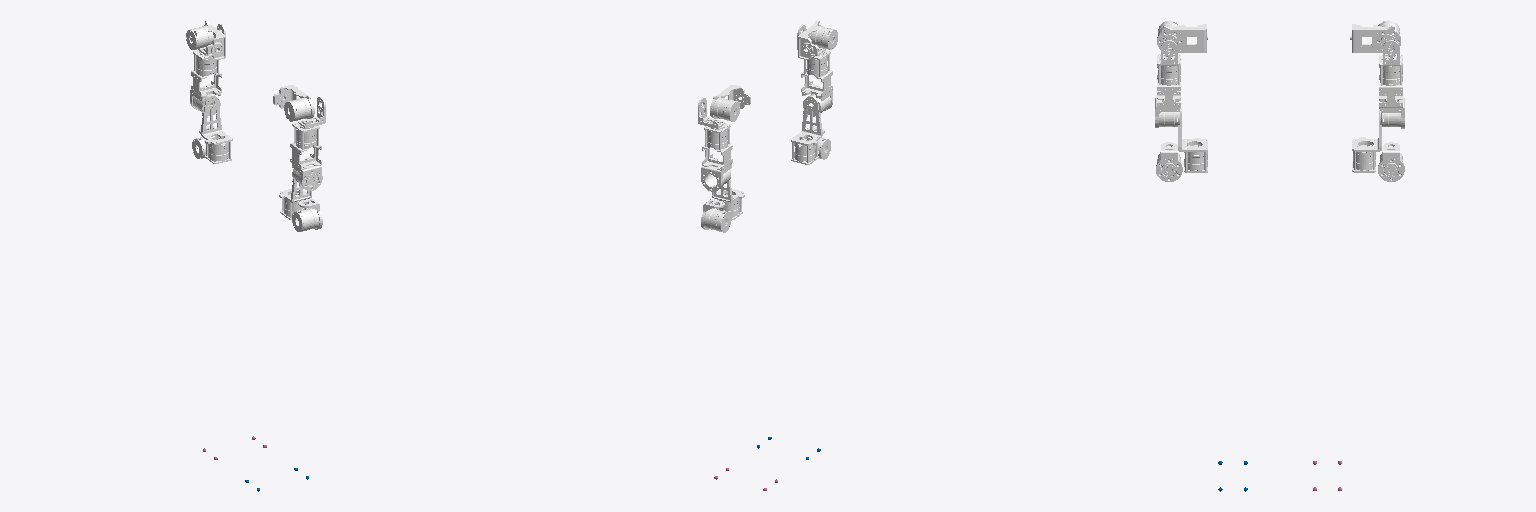
--- Facts derived from the render (not from the file) ---
3 views of the same robot in one strip: view 1: azimuth 30°, elevation 25°; view 2: azimuth 150°, elevation 25°; view 3: azimuth 270°, elevation 25° (orthographic).
Robot: biped_v3 — 27 links, 26 joints (2 revolute, 24 continuous); root link torso; default pose: every joint at zero.
Visible links, largest first — view 1: r_arm_yaw, l_arm_yaw, l_forearm_pitch, r_arm_pitch, l_arm_pitch, r_forearm_yaw, r_forearm_pitch; view 2: l_arm_yaw, r_arm_yaw, r_forearm_pitch, l_arm_pitch, r_arm_pitch, l_forearm_yaw, l_forearm_pitch; view 3: r_arm_yaw, l_arm_yaw, r_arm_pitch, l_arm_pitch, r_forearm_pitch, l_forearm_pitch, r_forearm_yaw, l_forearm_yaw.
Link boxes in pixels (x1,y1,x2,y2): r_arm_yaw: (290,122,322,190); l_arm_yaw: (190,50,221,115); l_forearm_pitch: (201,95,232,163); r_arm_pitch: (273,85,314,121); l_arm_pitch: (186,21,225,59); r_forearm_yaw: (292,198,322,231); r_forearm_pitch: (279,179,311,219); l_arm_yaw: (701,123,732,191); r_arm_yaw: (801,50,832,116); r_forearm_pitch: (791,96,822,164); l_arm_pitch: (710,85,750,121); r_arm_pitch: (798,21,837,59); l_forearm_yaw: (701,199,731,232); l_forearm_pitch: (712,161,744,219); r_arm_yaw: (1155,54,1180,127); l_arm_yaw: (1379,55,1404,128); r_arm_pitch: (1157,20,1207,52); l_arm_pitch: (1350,20,1400,52); r_forearm_pitch: (1178,103,1207,172); l_forearm_pitch: (1352,109,1381,172); r_forearm_yaw: (1156,142,1182,181); l_forearm_yaw: (1378,142,1404,181).
Size in the robot's own frame: 0.16 by 0.5952 by 1.19 metres.
10 mesh visuals loaded from 27 distinct referenced files (10 OBJ); not drawn: 17 (reference not matched to a file when rendering).

URDF robot description (biped_v3):
<?xml version='1.0' encoding='UTF-8'?>
<robot name="biped_v3">
  <link name="torso">
    <inertial>
      <origin xyz="-0.04010494863 -1.4589E-07 0.16945" rpy="0 0 0" />
      <mass value="27.2800595" />
      <inertia ixx="0.07055" ixy="4.2719E-07" ixz="0.0010388" iyy="0.059777" iyz="5.4507E-06" izz="0.063237" />
    </inertial>
    <visual>
      <origin xyz="0 0 0" rpy="0 0 0" />
      <geometry>
        <mesh filename="../meshes/base_link.obj" />
      </geometry>
      <material name="">
        <color rgba="0.43137 0.45098 0.43137 1" />
      </material>
    </visual>
  </link>

  <link name="l_leg_roll">
    <inertial>
      <origin xyz="0.12376 -0.00094625 0.0018331" rpy="0 0 0" />
      <mass value="0.56064" />
      <inertia ixx="0.00047549" ixy="-5.7629E-09" ixz="-2.715E-05" iyy="0.0012622" iyz="-5.2014E-07" izz="0.001544" />
    </inertial>
    <visual>
      <origin xyz="0 0 0" rpy="0 0 0" />
      <geometry>
        <mesh filename="../meshes/l_leg_roll.obj" />
      </geometry>
      <material name="">
        <color rgba="0.6902 0.65882 0.63922 1" />
      </material>
    </visual>
  </link>
  <joint name="l_leg_roll_joint" type="continuous">
    <origin xyz="-0.139 0.088087 -0.065549" rpy="0 0 0" />
    <parent link="torso" />
    <child link="l_leg_roll" />
    <axis xyz="1 0 0" />
    <limit lower="-0.78" upper="1.57" effort="100" velocity="25" />
  </joint>
  <!--        ssss -->
  <transmission type="SimpleTransmission">
    <joint name="l_leg_roll_joint" />
    <actuator name="l_leg_roll_motor" />
  </transmission>
  <!-- sssssssss -->

  <link name="l_leg_yaw">
    <inertial>
      <origin xyz="4.6008E-05 0.044158 -0.059152" rpy="0 0 0" />
      <mass value="1.4747" />
      <inertia ixx="0.0022712" ixy="-9.7623E-07" ixz="2.2765E-06" iyy="0.0027283" iyz="1.7745E-05" izz="0.0018485" />
    </inertial>
    <visual>
      <origin xyz="0 0 0" rpy="0 0 0" />
      <geometry>
        <mesh filename="../meshes/l_leg_yaw.obj" />
      </geometry>
      <material name="">
        <color rgba="0.65098 0.61961 0.58824 1" />
      </material>
    </visual>
  </link>
  <joint name="l_leg_yaw_joint" type="continuous">
    <origin xyz="0.1365 -0.0010866 -0.033901" rpy="0 0 0" />
    <parent link="l_leg_roll" />
    <child link="l_leg_yaw" />
    <axis xyz="0 0 1" />
    <limit lower="-1.57" upper="1.57" effort="100" velocity="25" />
  </joint>
  <!--        ssss -->
  <transmission type="SimpleTransmission">
    <joint name="l_leg_yaw_joint" />
    <actuator name="l_leg_yaw_motor" />
  </transmission>
  <!-- sssssssss -->


  <link name="l_leg_pitch">
    <inertial>
      <origin xyz="3.3822E-05 -0.090196 -0.092731" rpy="0 0 0" />
      <mass value="3.2147" />
      <inertia ixx="0.010734" ixy="5.5676E-06" ixz="0.0010537" iyy="0.012428" iyz="6.5535E-05" izz="0.002102" />
    </inertial>
    <visual>
      <origin xyz="0 0 0" rpy="0 0 0" />
      <geometry>
        <mesh filename="../meshes/l_leg_pitch.obj" />
      </geometry>
      <material name="">
        <color rgba="0.52941 0.54902 0.54902 1" />
      </material>
    </visual>
  </link>
  <joint name="l_leg_pitch_joint" type="continuous">
    <origin xyz="0 0.094 -0.09" rpy="0 0 0" />
    <parent link="l_leg_yaw" />
    <child link="l_leg_pitch" />
    <axis xyz="0 1 0" />
    <limit lower="-2.35" upper="0.78" effort="100" velocity="47" />
  </joint>
  <!--        ssss -->
  <transmission type="SimpleTransmission">
    <joint name="l_leg_pitch_joint" />
    <actuator name="l_leg_pitch_motor" />
  </transmission>
  <!-- sssssssss -->


  <link name="l_knee">
    <inertial>
      <origin xyz="0.00056817 -0.0027454 -0.14068" rpy="0 0 0" />
      <mass value="1.9" />
      <inertia ixx="0.013583" ixy="-5.0622E-08" ixz="-0.00013542" iyy="0.014078" iyz="-0.00011671" izz="0.00085269" />
    </inertial>
    <visual>
      <origin xyz="0 0 0" rpy="0 0 0" />
      <geometry>
        <mesh filename="../meshes/l_knee.obj" />
      </geometry>
      <material name="">
        <color rgba="0.68627 0.65882 0.63922 1" />
      </material>
    </visual>
  </link>
  <joint name="l_knee_pitch_joint" type="revolute">
    <origin xyz="0.004136 -0.06635 -0.24997" rpy="0 0 0" />
    <parent link="l_leg_pitch" />
    <child link="l_knee" />
    <axis xyz="0 1 0" />
    <limit lower="0.0" upper="2.61" effort="100" velocity="47" />
  </joint>
  <!--        ssss -->
  <transmission type="SimpleTransmission">
    <joint name="l_knee_pitch_joint" />
    <actuator name="l_knee_pitch_motor" />
  </transmission>
  <!-- sssssssss -->


  <link name="l_foot_pitch">
    <inertial>
      <origin xyz="-1.3719E-07 -1.3719E-07 0" rpy="0 0 0" />
      <mass value="0.042517" />
      <inertia ixx="4.0903E-06" ixy="8.0023E-16" ixz="1.4167E-10" iyy="4.0903E-06" iyz="-1.4387E-10" izz="7.1956E-06" />
    </inertial>
    <visual>
      <origin xyz="0 0 0" rpy="0 0 0" />
      <geometry>
        <mesh filename="../meshes/l_foot_pitch.obj" />
      </geometry>
      <material name="">
        <color rgba="0.6902 0.65882 0.63922 1" />
      </material>
    </visual>
  </link>

  <joint name="l_foot_pitch_joint" type="continuous">
    <origin xyz="0 -0.0022 -0.346" rpy="0 0 0" />
    <parent link="l_knee" />
    <child link="l_foot_pitch" />
    <axis xyz="0 1 0" />
    <limit lower="-1.57" upper="1.57" effort="100" velocity="25" />
  </joint>
  <!--        ssss -->
  <transmission type="SimpleTransmission">
    <joint name="l_foot_pitch_joint" />
    <actuator name="l_foot_pitch_motor" />
  </transmission>
  <!-- sssssssss -->


  <link name="l_foot_roll">
    <inertial>
      <origin xyz="-0.01048 -9.0844E-07 -0.031378" rpy="0 0 0" />
      <mass value="0.59706" />
      <inertia ixx="0.00024622" ixy="3.3623E-08" ixz="1.2464E-05" iyy="0.00082217" iyz="1.5915E-09" izz="0.00099703" />
    </inertial>
    <visual>
      <origin xyz="0 0 0" rpy="0 0 0" />
      <geometry>
        <mesh filename="../meshes/l_foot_roll.obj" />
      </geometry>
      <material name="">
        <color rgba="0.6902 0.65882 0.63922 1" />
      </material>
    </visual>
    <visual>
      <origin rpy="0 0 0" xyz="-0.075 0.03 -0.0465" />
      <geometry>
        <sphere radius="0.005" />
      </geometry>
    </visual>
    <collision>
      <origin rpy="0 0 0" xyz="-0.075 0.03 -0.0465" />
      <geometry>
        <sphere radius="0.005" />
      </geometry>
    </collision>
    <visual>
      <origin rpy="0 0 0" xyz="-0.075 -0.03 -0.0465" />
      <geometry>
        <sphere radius="0.005" />
      </geometry>
    </visual>
    <collision>
      <origin rpy="0 0 0" xyz="-0.075 -0.03 -0.0465" />
      <geometry>
        <sphere radius="0.005" />
      </geometry>
    </collision>

    <visual>
      <origin rpy="0 0 0" xyz="0.075 0.03 -0.0465" />
      <geometry>
        <sphere radius="0.005" />
      </geometry>
    </visual>
    <collision>
      <origin rpy="0 0 0" xyz="0.075 0.03 -0.0465" />
      <geometry>
        <sphere radius="0.005" />
      </geometry>
    </collision>
    <visual>
      <origin rpy="0 0 0" xyz="0.075 -0.03 -0.0465" />
      <geometry>
        <sphere radius="0.005" />
      </geometry>
    </visual>
    <collision>
      <origin rpy="0 0 0" xyz="0.075 -0.03 -0.0465" />
      <geometry>
        <sphere radius="0.005" />
      </geometry>
    </collision>
  </link>

  <frame link="l_foot_roll" name="l_foot_sole" xyz="0 0.0 -0.0465" />
  <frame link="l_foot_roll" name="l_foot_toe" xyz="0.075 0.0 -0.0465" />
  <frame link="l_foot_roll" name="l_foot_heel" xyz="-0.075 0.0 -0.0465" />

  <joint name="l_foot_roll_joint" type="continuous">
    <origin xyz="0 0 0" rpy="0 0 0" />
    <parent link="l_foot_pitch" />
    <child link="l_foot_roll" />
    <axis xyz="1 0 0" />
    <limit lower="-1.39" upper="0.78" effort="100" velocity="25" />
  </joint>

  <!--        ssss -->
  <transmission type="SimpleTransmission">
    <joint name="l_foot_roll_joint" />
    <actuator name="l_foot_roll_motor" />
  </transmission>
  <!-- sssssssss -->


  <link name="r_leg_roll">
    <inertial>
      <origin xyz="0.12376 0.00094623 0.0018332" rpy="0 0 0" />
      <mass value="0.56065" />
      <inertia ixx="0.0004755" ixy="4.0643E-09" ixz="-2.7151E-05" iyy="0.0012622" iyz="5.2026E-07" izz="0.001544" />
    </inertial>
    <visual>
      <origin xyz="0 0 0" rpy="0 0 0" />
      <geometry>
        <mesh filename="../meshes/r_leg_roll.obj" />
      </geometry>
      <material name="">
        <color rgba="0.6902 0.65882 0.63922 1" />
      </material>
    </visual>

  </link>
  <joint name="r_leg_roll_joint" type="continuous">
    <origin xyz="-0.139 -0.088087 -0.065549" rpy="0 0 0" />
    <parent link="torso" />
    <child link="r_leg_roll" />
    <axis xyz="1 0 0" />
    <limit lower="-1.57" upper="0.78" effort="100" velocity="25" />
  </joint>
  <!--        ssss -->
  <transmission type="SimpleTransmission">
    <joint name="r_leg_roll_joint" />
    <actuator name="r_leg_roll_motor" />
  </transmission>
  <!-- sssssssss -->
  <link name="r_leg_yaw">
    <inertial>
      <origin xyz="4.6008453382357E-05 -0.0441583379338295 -0.0591516288590082" rpy="0 0 0" />
      <mass value="1.47469906448792" />
      <inertia ixx="0.0022712180872114" ixy="9.74687138334632E-07" ixz="2.27645207452941E-06" iyy="0.00272830197417094" iyz="-1.77445503199158E-05" izz="0.00184853450356958" />
    </inertial>
    <visual>
      <origin xyz="0 0 0" rpy="0 0 0" />
      <geometry>
        <mesh filename="../meshes/r_leg_yaw.obj" />
      </geometry>
      <material name="">
        <color rgba="0.650980392156863 0.619607843137255 0.588235294117647 1" />
      </material>
    </visual>
  </link>
  <joint name="r_leg_yaw_joint" type="continuous">
    <origin xyz="0.1365 0.0010866 -0.033901" rpy="0 0 0" />
    <parent link="r_leg_roll" />
    <child link="r_leg_yaw" />
    <axis xyz="0 0 1" />
    <limit lower="-1.57" upper="1.57" effort="100" velocity="25" />
  </joint>
  <!--        ssss -->
  <transmission type="SimpleTransmission">
    <joint name="r_leg_yaw_joint" />
    <actuator name="r_leg_yaw_motor" />
  </transmission>
  <!-- sssssssss -->
  <link name="r_leg_pitch">
    <inertial>
      <origin xyz="3.38188220008516E-05 0.0901958192209294 -0.0927312834610572" rpy="0 0 0" />
      <mass value="3.21468475853988" />
      <inertia ixx="0.0107340986923324" ixy="-5.56586212896579E-06" ixz="0.00105370899095476" iyy="0.0124284635594398" iyz="-6.55325041190019E-05" izz="0.00210197369785429" />
    </inertial>
    <visual>
      <origin xyz="0 0 0" rpy="0 0 0" />
      <geometry>
        <mesh filename="../meshes/r_leg_pitch.obj" />
      </geometry>
      <material name="">
        <color rgba="0.529411764705882 0.549019607843137 0.549019607843137 1" />
      </material>
    </visual>
  </link>
  <joint name="r_leg_pitch_joint" type="continuous">
    <origin xyz="0 -0.094 -0.09" rpy="0 0 0" />
    <parent link="r_leg_yaw" />
    <child link="r_leg_pitch" />
    <axis xyz="0 1 0" />
    <limit lower="-2.35" upper="0.78" effort="100" velocity="47" />
  </joint>
  <!--        ssss -->
  <transmission type="SimpleTransmission">
    <joint name="r_leg_pitch_joint" />
    <actuator name="r_leg_pitch_motor" />
  </transmission>
  <!-- sssssssss -->
  <link name="r_knee">
    <inertial>
      <origin xyz="0.000568181168874152 0.00274544511365066 -0.140679760994397" rpy="0 0 0" />
      <mass value="1.9" />
      <inertia ixx="0.0135831096574744" ixy="5.06372932375887E-08" ixz="-0.000135418750420464" iyy="0.0140780596308972" iyz="0.000116712450564154" izz="0.000852693388166802" />
    </inertial>
    <visual>
      <origin xyz="0 0 0" rpy="0 0 0" />
      <geometry>
        <mesh filename="../meshes/r_knee.obj" />
      </geometry>
      <material name="">
        <color rgba="0.686274509803922 0.658823529411765 0.63921568627451 1" />
      </material>
    </visual>

  </link>
  <joint name="r_knee_pitch_joint" type="revolute">
    <origin xyz="0.004136 0.06635 -0.24997" rpy="0 0 0" />
    <parent link="r_leg_pitch" />
    <child link="r_knee" />
    <axis xyz="0 1 0" />
    <limit lower="0.0" upper="2.61" effort="100" velocity="47" />
  </joint>
  <!--        ssss -->
  <transmission type="SimpleTransmission">
    <joint name="r_knee_pitch_joint" />
    <actuator name="r_knee_pitch_motor" />
  </transmission>
  <!-- sssssssss -->
  <link name="r_foot_pitch">
    <inertial>
      <origin xyz="-1.37190188391825E-07 1.37190188390091E-07 0" rpy="0 0 0" />
      <mass value="0.0425174918720247" />
      <inertia ixx="4.09031229564754E-06" ixy="-8.00222135363249E-16" ixz="-1.41671566751524E-10" iyy="4.09031229564756E-06" iyz="-1.39474225791662E-10" izz="7.1955769430167E-06" />
    </inertial>
    <visual>
      <origin xyz="0 0 0" rpy="0 0 0" />
      <geometry>
        <mesh filename="../meshes/r_foot_pitch.obj" />
      </geometry>
      <material name="">
        <color rgba="0.690196078431373 0.658823529411765 0.63921568627451 1" />
      </material>
    </visual>

  </link>
  <joint name="r_foot_pitch_joint" type="continuous">
    <origin xyz="0 0.0022 -0.346" rpy="0 0 0" />
    <parent link="r_knee" />
    <child link="r_foot_pitch" />
    <axis xyz="0 1 0" />
    <limit lower="-1.57" upper="1.57" effort="100" velocity="25" />


  </joint>
  <!--        ssss -->
  <transmission type="SimpleTransmission">
    <joint name="r_foot_pitch_joint" />
    <actuator name="r_foot_pitch_motor" />
  </transmission>
  <!-- sssssssss -->
  <link name="r_foot_roll">
    <inertial>
      <origin xyz="-0.0104797365599209 9.09021901723817E-07 -0.0313782910571054" rpy="0 0 0" />
      <mass value="0.597055643310439" />
      <inertia ixx="0.000246215584188871" ixy="-3.36204939731203E-08" ixz="1.24638976746452E-05" iyy="0.000822172499612036" iyz="-1.59261387611339E-09" izz="0.000997027300374087" />
    </inertial>
    <visual>
      <origin xyz="0 0 0" rpy="0 0 0" />
      <geometry>
        <mesh filename="../meshes/r_foot_roll.obj" />
      </geometry>
      <material name="">
        <color rgba="0.690196078431373 0.658823529411765 0.63921568627451 1" />
      </material>
    </visual>

    <visual>
      <origin rpy="0 0 0" xyz="-0.075 0.03 -0.0465" />
      <geometry>
        <sphere radius="0.005" />
      </geometry>
    </visual>
    <collision>
      <origin rpy="0 0 0" xyz="-0.075 0.03 -0.0465" />
      <geometry>
        <sphere radius="0.005" />
      </geometry>
    </collision>
    <visual>
      <origin rpy="0 0 0" xyz="-0.075 -0.03 -0.0465" />
      <geometry>
        <sphere radius="0.005" />
      </geometry>
    </visual>
    <collision>
      <origin rpy="0 0 0" xyz="-0.075 -0.03 -0.0465" />
      <geometry>
        <sphere radius="0.005" />
      </geometry>
    </collision>

    <visual>
      <origin rpy="0 0 0" xyz="0.075 0.03 -0.0465" />
      <geometry>
        <sphere radius="0.005" />
      </geometry>
    </visual>
    <collision>
      <origin rpy="0 0 0" xyz="0.075 0.03 -0.0465" />
      <geometry>
        <sphere radius="0.005" />
      </geometry>
    </collision>
    <visual>
      <origin rpy="0 0 0" xyz="0.075 -0.03 -0.0465" />
      <geometry>
        <sphere radius="0.005" />
      </geometry>
    </visual>
    <collision>
      <origin rpy="0 0 0" xyz="0.075 -0.03 -0.0465" />
      <geometry>
        <sphere radius="0.005" />
      </geometry>
    </collision>

  </link>
  <frame link="r_foot_roll" name="r_foot_sole" xyz="0 -0.0 -0.0465" />
  <frame link="r_foot_roll" name="r_foot_toe" xyz="0.075 -0.0 -0.0465" />
  <frame link="r_foot_roll" name="r_foot_heel" xyz="-0.075 -0.0 -0.0465" />
  <joint name="r_foot_roll_joint" type="continuous">
    <origin xyz="0 0 0" rpy="0 0 0" />
    <parent link="r_foot_pitch" />
    <child link="r_foot_roll" />
    <axis xyz="1 0 0" />
    <limit lower="-1.39" upper="0.78" effort="100" velocity="25" />
  </joint>
  <!--        ssss -->
  <transmission type="SimpleTransmission">
    <joint name="r_foot_roll_joint" />
    <actuator name="r_foot_roll_motor" />
  </transmission>
  <!-- sssssssss -->
  <!-- =========================================================== Arms ================================================================= -->
  <!-- left arm -->
  <link name="l_arm_pitch">
    <inertial>
      <origin xyz="0.0214306014937492 0.0894803474436048 0.000615912525740503" rpy="0 0 0"/>
      <mass value="0.1942"/>
      <inertia ixx="0.000130680980046145" ixy="-2.8051476508872E-05" ixz="-4.43154983770371E-08" iyy="6.72732423481097E-05" iyz="-1.04235209424077E-06" izz="0.000113833719965484"/>
    </inertial>
    <visual>
      <origin xyz="0 0 0" rpy="0 0 0"/>
      <geometry>
        <mesh filename="../meshes/l_arm_pitch.obj"/>
      </geometry>
      <material name="">
        <color rgba="1 1 1 1"/>
      </material>
    </visual>
  </link>
  <joint name="l_arm_pitch" type="continuous">
    <origin xyz="-0.0174998525199999 0.121 0.3145" rpy="0 0 0"/>
    <parent link="torso"/>
    <child link="l_arm_pitch"/>
    <axis xyz="0 1 0"/>
    <limit lower="-1.57" upper="1.57" effort="100" velocity="35" />

  </joint>
  <transmission type="SimpleTransmission">
    <joint name="l_arm_pitch"/>
    <actuator name="l_arm_pitch_motor"/>
  </transmission>

  <link name="l_arm_roll">
    <inertial>
      <origin xyz="-0.035737115963316 0.000637394005623571 -0.00293587457508399" rpy="0 0 0"/>
      <mass value="0.8168"/>
      <inertia ixx="0.000128360157970662" ixy="6.10295766830323E-06" ixz="-1.04763903813656E-05" iyy="0.000190119380770336" iyz="1.1072652385836E-06" izz="0.000178903820792462"/>
    </inertial>
    <visual>
      <origin xyz="0 0 0" rpy="0 0 0"/>
      <geometry>
        <mesh filename="../meshes/l_arm_roll.obj"/>
      </geometry>
      <material name="">
        <color rgba="1 1 1 1"/>
      </material>
    </visual>
  </link>
  <joint name="l_arm_roll" type="continuous">
    <origin xyz="0.0638750000000005 0.143475 0" rpy="0 0 0"/>
    <parent link="l_arm_pitch"/>
    <child link="l_arm_roll"/>
    <axis xyz="1 0 0"/>
    <limit lower="-1.57" upper="1.57" effort="100" velocity="35" />
  </joint>
  <transmission type="SimpleTransmission">
    <joint name="l_arm_roll"/>
    <actuator name="l_arm_roll_motor"/>
  </transmission>

  <link name="l_arm_yaw">
    <inertial>
      <origin xyz="-0.000196754553523828 -0.00200221985054488 -0.0822363960198868" rpy="0 0 0"/>
      <mass value="0.710"/>
      <inertia ixx="7.15763821808342E-05" ixy="-7.20357840527445E-07" ixz="1.2879634524044E-07" iyy="0.000116064001916274" iyz="-3.24539663479111E-06" izz="0.000102450224641922"/>
    </inertial>
    <visual>
      <origin xyz="0 0 0" rpy="0 0 0"/>
      <geometry>
        <mesh filename="../meshes/l_arm_yaw.obj"/>
      </geometry>
      <material name="">
        <color rgba="1 1 1 1"/>
      </material>
    </visual>
  </link>
  <joint name="l_arm_yaw" type="continuous">
    <origin xyz="-0.0436732904500001 -0.000228544867618807 -0.0507499999999994" rpy="0 0 0"/>
    <parent link="l_arm_roll"/>
    <child link="l_arm_yaw"/>
    <axis xyz="0 0.0045033014816499 0.999989860086474"/>
    <limit lower="-1.57" upper="1.57" effort="100" velocity="35" />
  </joint>
  <transmission type="SimpleTransmission">
    <joint name="l_arm_yaw"/>
    <actuator name="l_arm_yaw_motor"/>
  </transmission>

  <link name="l_forearm_pitch">
    <inertial>
      <origin xyz="-1.76621857590764E-09 0.0247675246684128 -0.070263864959373" rpy="0 0 0"/>
      <mass value="0.100717925891199"/>
      <inertia ixx="6.81753177964767E-05" ixy="-1.3166203212202E-12" ixz="-2.01946859234465E-12" iyy="6.38358674774755E-05" iyz="1.22265699624491E-05" izz="7.39768830554407E-05"/>
    </inertial>
    <visual>
      <origin xyz="0 0 0" rpy="0 0 0"/>
      <geometry>
        <mesh filename="../meshes/l_forearm_pitch.obj"/>
      </geometry>
      <material name="">
        <color rgba="1 1 1 1"/>
      </material>
    </visual>
  </link>
  <joint name="l_forearm_pitch" type="continuous">
    <origin xyz="0 -0.0300214551323814 -0.1357" rpy="0 0 0"/>
    <parent link="l_arm_yaw"/>
    <child link="l_forearm_pitch"/>
    <axis xyz="0 1 0"/>
    <limit lower="-1.57" upper="1.57" effort="100" velocity="35" />
  </joint>
  <transmission type="SimpleTransmission">
    <joint name="l_forearm_pitch"/>
    <actuator name="l_forearm_pitch_motor"/>
  </transmission>

  <link name="l_forearm_yaw">
    <inertial>
      <origin xyz="-0.00399570091504528 2.98471488309193E-05 -0.0656133809823523" rpy="0 0 0"/>
      <mass value="0.413"/>
      <inertia ixx="7.01872239868571E-05" ixy="-1.62696734264376E-07" ixz="-4.54392258182991E-07" iyy="7.29165229929418E-05" iyz="-7.2325873682261E-09" izz="6.87979464480365E-05"/>
    </inertial>
    <visual>
      <origin xyz="0 0 0" rpy="0 0 0"/>
      <geometry>
        <mesh filename="../meshes/l_forearm_yaw.obj"/>
      </geometry>
      <material name="">
        <color rgba="1 1 1 1"/>
      </material>
    </visual>
  </link>
  <joint name="l_forearm_yaw" type="continuous">
    <origin xyz="0 0.0302500000000002 -0.0915499999999999" rpy="0 0 0"/>
    <parent link="l_forearm_pitch"/>
    <child link="l_forearm_yaw"/>
    <axis xyz="0 0 1"/>
    <limit lower="-1.57" upper="1.57" effort="100" velocity="35" />
  </joint>
  <transmission type="SimpleTransmission">
    <joint name="l_forearm_yaw"/>
    <actuator name="l_forearm_yaw_motor"/>
  </transmission>

  <link name="l_hand_roll">
    <inertial>
      <origin xyz="0.0166010838376317 1.21699082866744E-07 1.73724289204147E-07" rpy="0 0 0"/>
      <mass value="0.0071"/>
      <inertia ixx="1.93486939049626E-07" ixy="1.34751407910019E-12" ixz="-9.12379114183907E-13" iyy="1.3659940311531E-07" iyz="2.34311788925342E-12" izz="3.17250990444323E-07"/>
    </inertial>
    <visual>
      <origin xyz="0 0 0" rpy="0 0 0"/>
      <geometry>
        <mesh filename="../meshes/l_hand_roll.obj"/>
      </geometry>
      <material name="">
        <color rgba="1 1 1 1"/>
      </material>
    </visual>
  </link>
  <joint name="l_hand_roll" type="continuous">
    <origin xyz="-0.025322 0 -0.1575" rpy="0 0 0"/>
    <parent link="l_forearm_yaw"/>
    <child link="l_hand_roll"/>
    <axis xyz="1 0 0"/>
    <limit lower="-1.57" upper="1.57" effort="100" velocity="35" />
  </joint>
  <transmission type="SimpleTransmission">
    <joint name="l_hand_roll"/>
    <actuator name="l_hand_roll_motor"/>
  </transmission>
  <link name="l_hand_pitch">
    <inertial>
      <origin xyz="0.00216452934621551 -6.77719551251399E-05 -0.0859772405742664" rpy="0 0 0"/>
      <mass value="0.6789"/>
      <inertia ixx="1.140633456061E-05" ixy="-1.76559662166693E-10" ixz="2.91544414425806E-07" iyy="1.10990606835989E-05" iyz="-7.83300192322812E-10" izz="8.19218367742265E-06"/>
    </inertial>
    <visual>
      <origin xyz="0 0 0" rpy="0 0 0"/>
      <geometry>
        <mesh filename="../meshes/l_hand_pitch.obj"/>
      </geometry>
      <material name="">
        <color rgba="1 1 1 1"/>
      </material>
    </visual>
  </link>
  <joint name="l_hand_pitch" type="continuous">
    <origin xyz="0.02137 0 0" rpy="0 0 0"/>
    <parent link="l_hand_roll"/>
    <child link="l_hand_pitch"/>
    <axis xyz="0 1 0"/>
    <limit lower="-1.57" upper="1.57" effort="100" velocity="35" />
  </joint>
  <transmission type="SimpleTransmission">
    <joint name="l_hand_pitch"/>
    <actuator name="l_hand_pitch_motor"/>
  </transmission>

  <!-- right arm -->
  <link name="r_arm_pitch">
    <inertial>
      <origin xyz="0.0214306041026405 -0.0844803465442086 0.00061581470811356" rpy="0 0 0"/>
      <mass value="0.1942"/>
      <inertia ixx="0.000130680921242486" ixy="2.80514667713823E-05" ixz="-4.43612197682304E-08" iyy="6.72732085095452E-05" iyz="1.04250551958736E-06" izz="0.000113833677598239"/>
    </inertial>
    <visual>
      <origin xyz="0 0 0" rpy="0 0 0"/>
      <geometry>
        <mesh filename="../meshes/r_arm_pitch.obj"/>
      </geometry>
      <material name="">
        <color rgba="1 1 1 1"/>
      </material>
    </visual>
  </link>
  <joint name="r_arm_pitch" type="continuous">
    <origin xyz="-0.0174998525199999 -0.126 0.3145" rpy="0 0 0"/>
    <parent link="torso"/>
    <child link="r_arm_pitch"/>
    <axis xyz="0 1 0"/>
    <limit lower="-1.57" upper="1.57" effort="100" velocity="35" />
  </joint>
  <transmission type="SimpleTransmission">
    <joint name="r_arm_pitch"/>
    <actuator name="r_arm_pitch_motor"/>
  </transmission>

  <link name="r_arm_roll">
    <inertial>
      <origin xyz="-0.0357371168973825 -0.000637394797891544 -0.00293587513361748" rpy="0 0 0"/>
      <mass value="0.8168"/>
      <inertia ixx="0.000128360143073782" ixy="-6.10295800980191E-06" ixz="-1.0476390047817E-05" iyy="0.000190119367974024" iyz="-1.10726166060552E-06" izz="0.000178903821203388"/>
    </inertial>
    <visual>
      <origin xyz="0 0 0" rpy="0 0 0"/>
      <geometry>
        <mesh filename="../meshes/r_arm_roll.obj"/>
      </geometry>
      <material name="">
        <color rgba="1 1 1 1"/>
      </material>
    </visual>
  </link>
  <joint name="r_arm_roll" type="continuous">
    <origin xyz="0.0638750000000006 -0.138475 0" rpy="0 0 0"/>
    <parent link="r_arm_pitch"/>
    <child link="r_arm_roll"/>
    <axis xyz="1 0 0"/>
    <limit lower="-1.57" upper="1.57" effort="100" velocity="35" />
  </joint>
  <transmission type="SimpleTransmission">
    <joint name="r_arm_roll"/>
    <actuator name="r_arm_roll_motor"/>
  </transmission>

  <link name="r_arm_yaw">
    <inertial>
      <origin xyz="-0.000194980244391281 0.00223075394549077 -0.0832363148203375" rpy="0 0 0"/>
      <mass value="0.710"/>
      <inertia ixx="7.15747672025054E-05" ixy="7.20299540431296E-07" ixz="1.30045936565256E-07" iyy="0.00011606243891087" iyz="3.24540546737595E-06" izz="0.000102450220317482"/>
    </inertial>
    <visual>
      <origin xyz="0 0 0" rpy="0 0 0"/>
      <geometry>
        <mesh filename="../meshes/r_arm_yaw.obj"/>
      </geometry>
      <material name="">
        <color rgba="1 1 1 1"/>
      </material>
    </visual>
  </link>
  <joint name="r_arm_yaw" type="continuous">
    <origin xyz="-0.0436749999999998 0 -0.0497499999999998" rpy="0 0 0"/>
    <parent link="r_arm_roll"/>
    <child link="r_arm_yaw"/>
    <axis xyz="0 0 1"/>
    <limit lower="-1.57" upper="1.57" effort="100" velocity="35" />
  </joint>
  <transmission type="SimpleTransmission">
    <joint name="r_arm_yaw"/>
    <actuator name="r_arm_yaw_motor"/>
  </transmission>

  <link name="r_forearm_pitch">
    <inertial>
      <origin xyz="7.1803206297405E-09 -0.0235362732742576 -0.0656063288648233" rpy="0 0 0"/>
      <mass value="0.100"/>
      <inertia ixx="6.24507314646795E-05" ixy="-6.49100177668853E-12" ixz="3.722894079977E-12" iyy="5.81112784382459E-05" iyz="-1.22265695808957E-05" izz="6.2829761531135E-05"/>
    </inertial>
    <visual>
      <origin xyz="0 0 0" rpy="0 0 0"/>
      <geometry>
        <mesh filename="../meshes/r_forearm_pitch.obj"/>
      </geometry>
      <material name="">
        <color rgba="1 1 1 1"/>
      </material>
    </visual>
  </link>
  <joint name="r_forearm_pitch" type="continuous">
    <origin xyz="0 0.0302500000000003 -0.1377" rpy="0 0 0"/>
    <parent link="r_arm_yaw"/>
    <child link="r_forearm_pitch"/>
    <axis xyz="0 1 0"/>
    <limit lower="-1.57" upper="1.57" effort="100" velocity="35" />
  </joint>
  <transmission type="SimpleTransmission">
    <joint name="r_forearm_pitch"/>
    <actuator name="r_forearm_pitch_motor"/>
  </transmission>

  <link name="r_forearm_yaw">
    <inertial>
      <origin xyz="-0.00399571587295026 -2.98574044384492E-05 -0.0656134416270269" rpy="0 0 0"/>
      <mass value="0.413"/>
      <inertia ixx="7.01871005830262E-05" ixy="1.62591814390724E-07" ixz="-4.54374332575993E-07" iyy="7.29165016216887E-05" iyz="7.3578843890099E-09" izz="6.87978478315219E-05"/>
    </inertial>
    <visual>
      <origin xyz="0 0 0" rpy="0 0 0"/>
      <geometry>
        <mesh filename="../meshes/r_forearm_yaw.obj"/>
      </geometry>
      <material name="">
        <color rgba="1 1 1 1"/>
      </material>
    </visual>
  </link>
  <joint name="r_forearm_yaw" type="continuous">
    <origin xyz="0 -0.0302500000000002 -0.0905499999999999" rpy="0 0 0"/>
    <parent link="r_forearm_pitch"/>
    <child link="r_forearm_yaw"/>
    <axis xyz="0 0 1"/>
    <limit lower="-1.57" upper="1.57" effort="100" velocity="35" />
  </joint>
  <transmission type="SimpleTransmission">
    <joint name="r_forearm_yaw"/>
    <actuator name="r_forearm_yaw_motor"/>
  </transmission>

  <link name="r_hand_roll">
    <inertial>
      <origin xyz="0.0166010838484253 -1.21914575379467E-07 -1.70258151493963E-07" rpy="0 0 0"/>
      <mass value="0.0071"/>
      <inertia ixx="1.93486938959377E-07" ixy="-1.35418412773771E-12" ixz="9.16670576988079E-13" iyy="1.36599402900294E-07" iyz="2.34295717847431E-12" izz="3.17250989285096E-07"/>
    </inertial>
    <visual>
      <origin xyz="0 0 0" rpy="0 0 0"/>
      <geometry>
        <mesh filename="../meshes/r_hand_roll.obj"/>
      </geometry>
      <material name="">
        <color rgba="1 1 1 1"/>
      </material>
    </visual>
  </link>
  <joint name="r_hand_roll" type="continuous">
    <origin xyz="-0.025322 0 -0.1575" rpy="0 0 0"/>
    <parent link="r_forearm_yaw"/>
    <child link="r_hand_roll"/>
    <axis xyz="1 0 0"/>
    <limit lower="-1.57" upper="1.57" effort="100" velocity="35" />
  </joint>
  <transmission type="SimpleTransmission">
    <joint name="r_hand_roll"/>
    <actuator name="r_hand_roll_motor"/>
  </transmission>

  <link name="r_hand_pitch">
    <inertial>
      <origin xyz="0.00214702310217297 -7.83584216464961E-05 -0.0852818706514631" rpy="0 0 0"/>
      <mass value="0.6789"/>
      <inertia ixx="1.14121247582596E-05" ixy="1.76471512895622E-10" ixz="2.91544422581543E-07" iyy="1.11095803968485E-05" iyz="7.83308829804773E-10" izz="8.19797394000677E-06"/>
    </inertial>
    <visual>
      <origin xyz="0 0 0" rpy="0 0 0"/>
      <geometry>
        <mesh filename="../meshes/r_hand_pitch.obj"/>
      </geometry>
      <material name="">
        <color rgba="1 1 1 1"/>
      </material>
    </visual>
  </link>
  <joint name="r_hand_pitch" type="continuous">
    <origin xyz="0.02137 0 0" rpy="0 0 0"/>
    <parent link="r_hand_roll"/>
    <child link="r_hand_pitch"/>
    <axis xyz="0 1 0"/>
    <limit lower="-1.57" upper="1.57" effort="100" velocity="35" />
  </joint>
  <transmission type="SimpleTransmission">
    <joint name="r_hand_pitch"/>
    <actuator name="r_hand_pitch_motor"/>
  </transmission>

  <!-- end frame -->
  <frame link="l_hand_pitch" name="l_hand_sole" xyz="0 0 -0.1" />
  <frame link="r_hand_pitch" name="r_hand_sole" xyz="0 0 -0.1" />
</robot>
